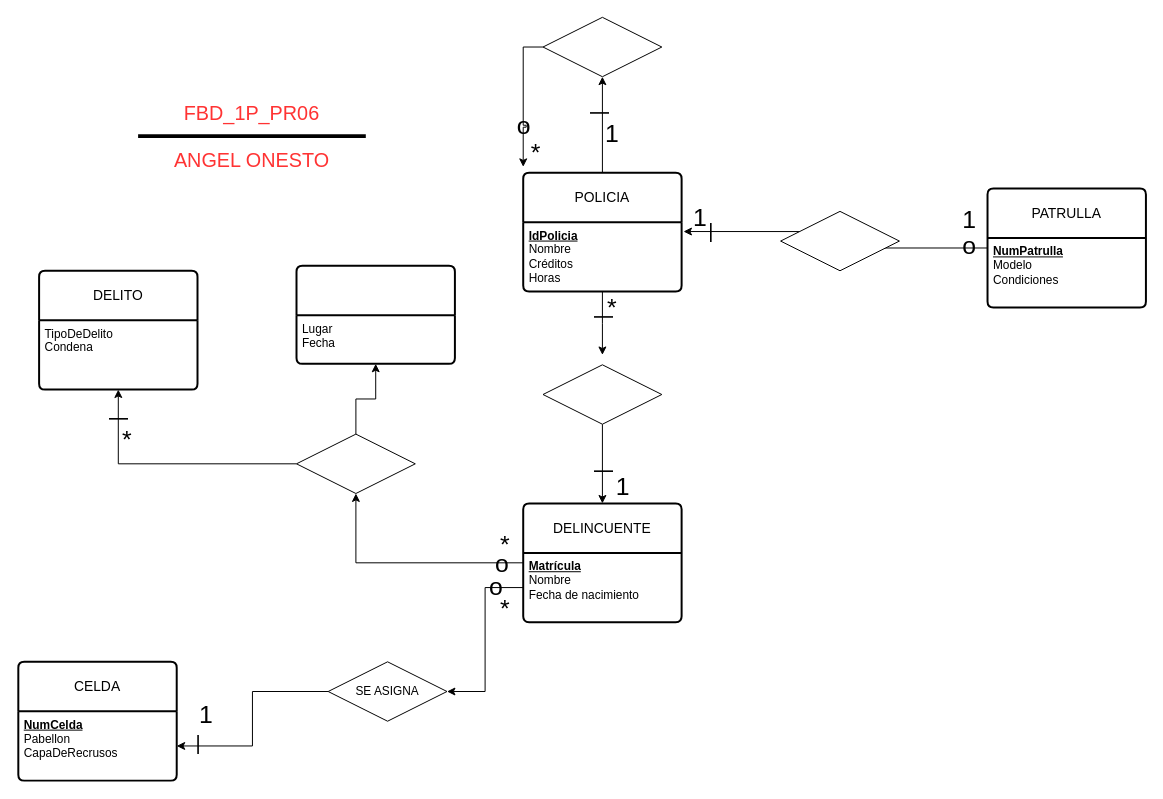
Some shapes in this 1163 by 799 pixel diagram are drawn without their labels. Here are the shapes that lost their labels. From the top down, the centre of each, then its label:
At (x=602, y=46): "Supervisa".
At (x=839, y=240): "ASIGNADA".
At (x=602, y=394): "ARRESTA".
At (x=355, y=463): "COMETE".
